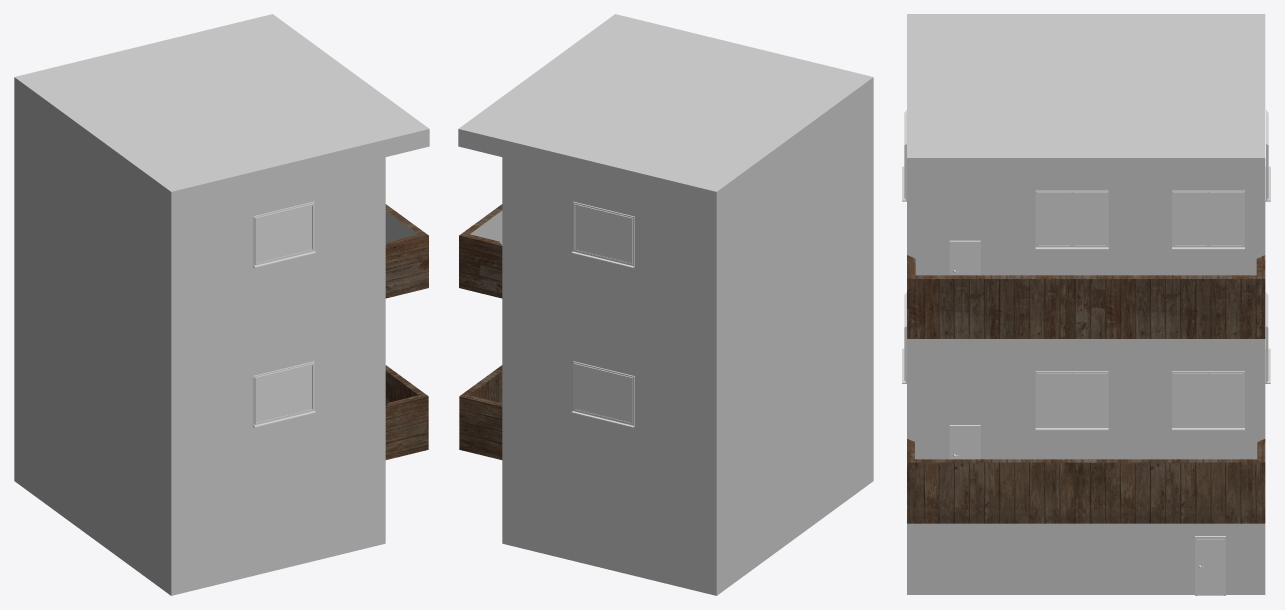
File: building 3.dae
3 renders of one model, left to right at view 1: azimuth 30°, elevation 25°; view 2: azimuth 150°, elevation 25°; view 3: azimuth 270°, elevation 25°, orthographic. The views are drawn at different scales.
Parts seen in each view (by area): view 1: Plane, Window.008, Window.007; view 2: Plane, Window.006, Window.009; view 3: Plane, Window.002, Window.004, Window.005, Window.001, Door, Door.001, Door.002.
Part boxes in pixels (x1,y1,x2,y2): Plane: (14, 14, 429, 595); Window.008: (253, 201, 316, 268); Window.007: (253, 361, 316, 427); Plane: (458, 14, 873, 595); Window.006: (571, 201, 634, 268); Window.009: (571, 361, 634, 427); Plane: (907, 14, 1265, 594); Window.002: (1035, 371, 1108, 430); Window.004: (1035, 190, 1108, 249); Window.005: (1172, 190, 1244, 249); Window.001: (1172, 371, 1244, 430); Door: (1197, 539, 1223, 595); Door.001: (952, 428, 978, 459); Door.002: (952, 244, 978, 275).
Size of the model in its own units: 10.97 by 11.88 by 16.4.
44 materials, 1 textured.
